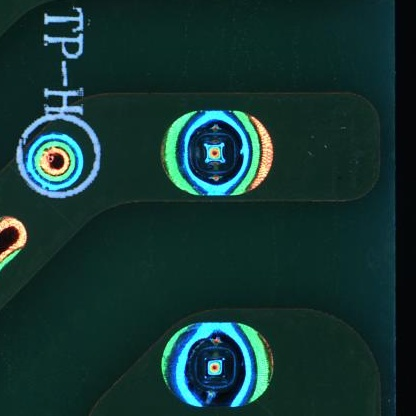spot: (159, 321, 275, 408), (160, 109, 272, 197), (25, 132, 85, 190)
